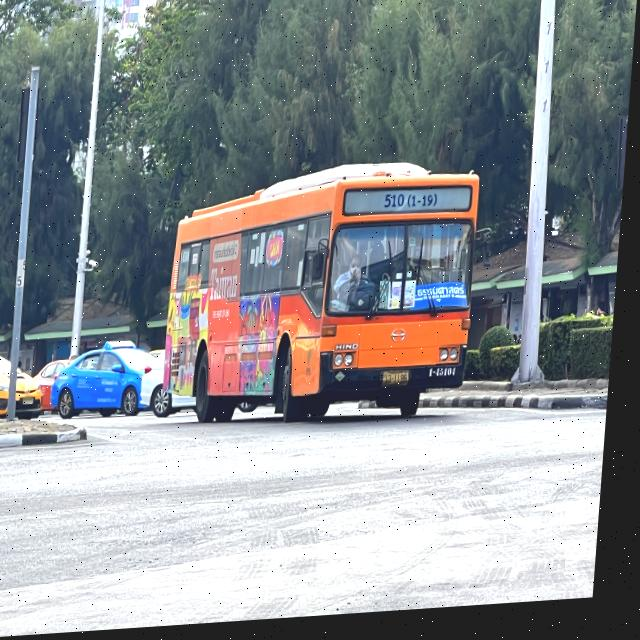BMTA-bus: (156, 164, 486, 439)
Bus-Line-Number: (383, 189, 446, 221)
Destination-Sign-Normal: (418, 286, 475, 316)
